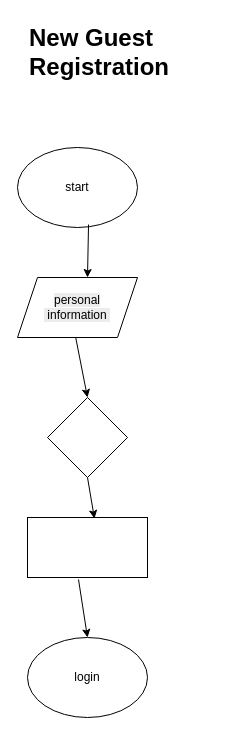
This 225x735 diagram has some shape labels left out. Here are the shapes that lost their labels. From the top down, the centre of each, then its label:
At point (87, 437): "info complete".
At point (87, 547): "create account".
